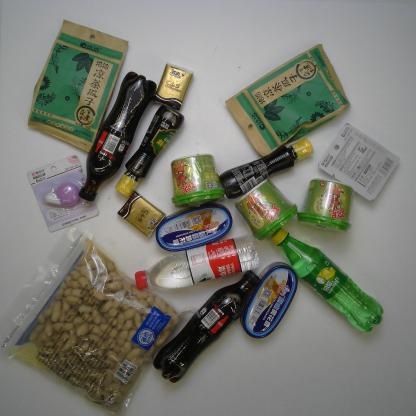Canned Food: (240, 260, 298, 335), (156, 202, 233, 250)
Dried Food: (4, 226, 194, 412), (222, 42, 352, 160), (25, 22, 128, 153)
Drink: (150, 271, 262, 383), (270, 226, 384, 332), (77, 73, 156, 200), (136, 233, 260, 290)
Instant Drink: (236, 178, 298, 239), (300, 175, 355, 232), (171, 155, 224, 206)
Seasoner: (114, 106, 185, 198), (219, 138, 316, 198)
Stationery: (316, 121, 400, 202), (26, 156, 100, 230)
Tissue: (115, 189, 164, 236), (157, 64, 193, 110)
